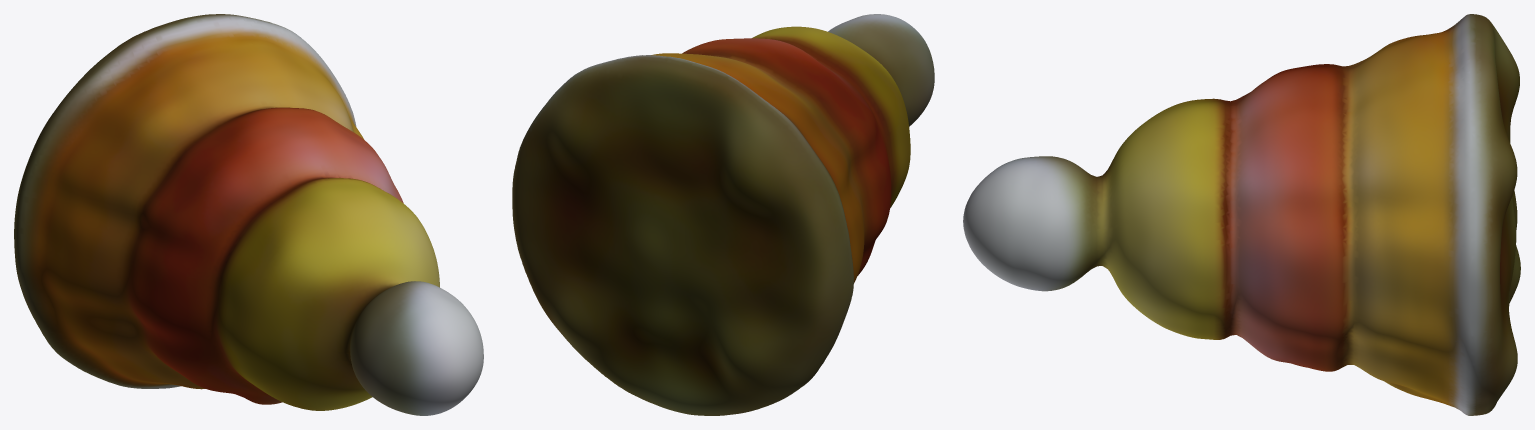
Rendered from chicken.glb.
3 renders of one model, left to right at view 1: azimuth 30°, elevation 25°; view 2: azimuth 150°, elevation 25°; view 3: azimuth 270°, elevation 25°, orthographic. The views are drawn at different scales.
Bounding box in the file's own units: 0.7205 × 0.7261 × 0.9998.
